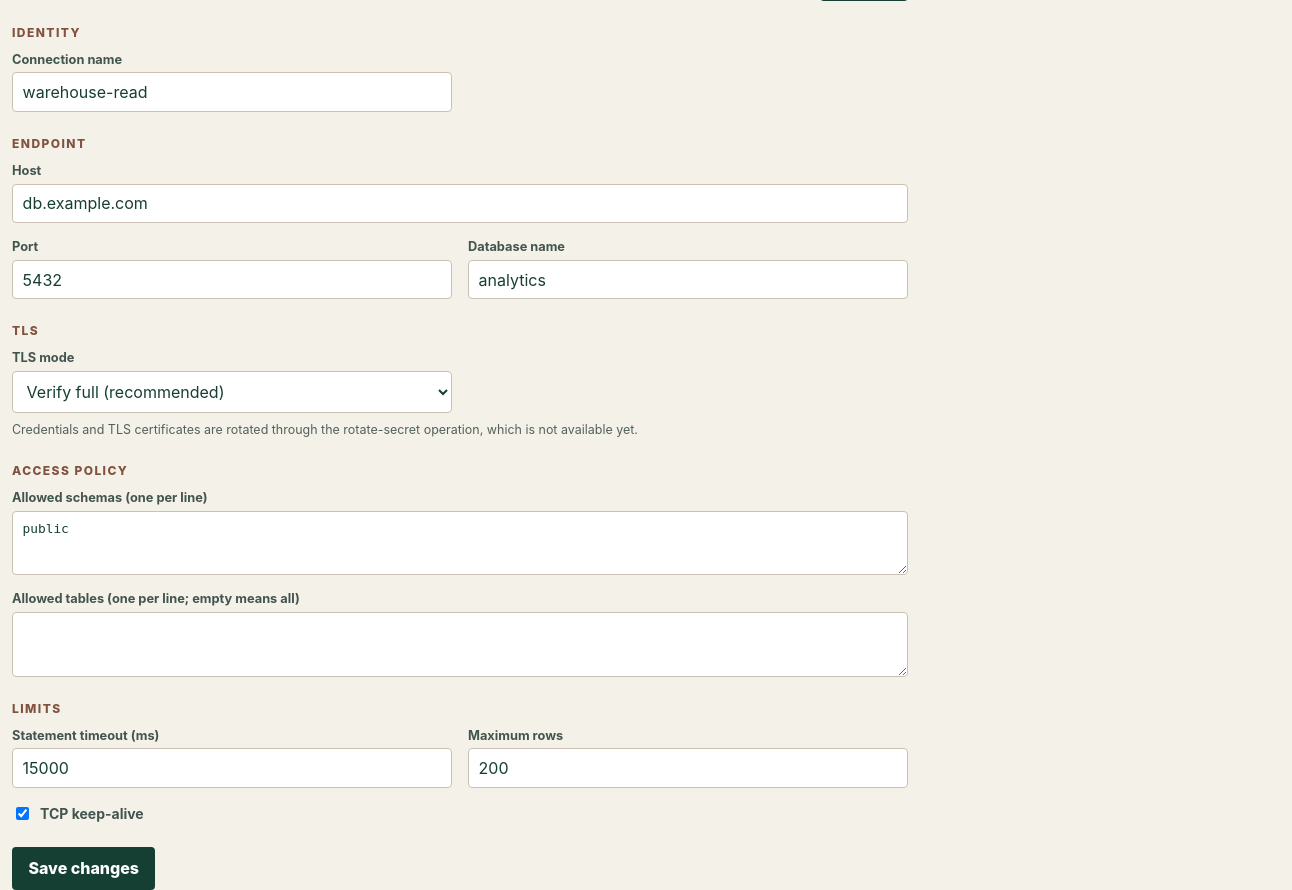
Test: ConnectionUpdateForm › blocks update when no ETag is available
The image size is (1292, 890).
(page scrolled)
Click the button "Save changes".
click(84, 868)  # box [12,847,155,889]
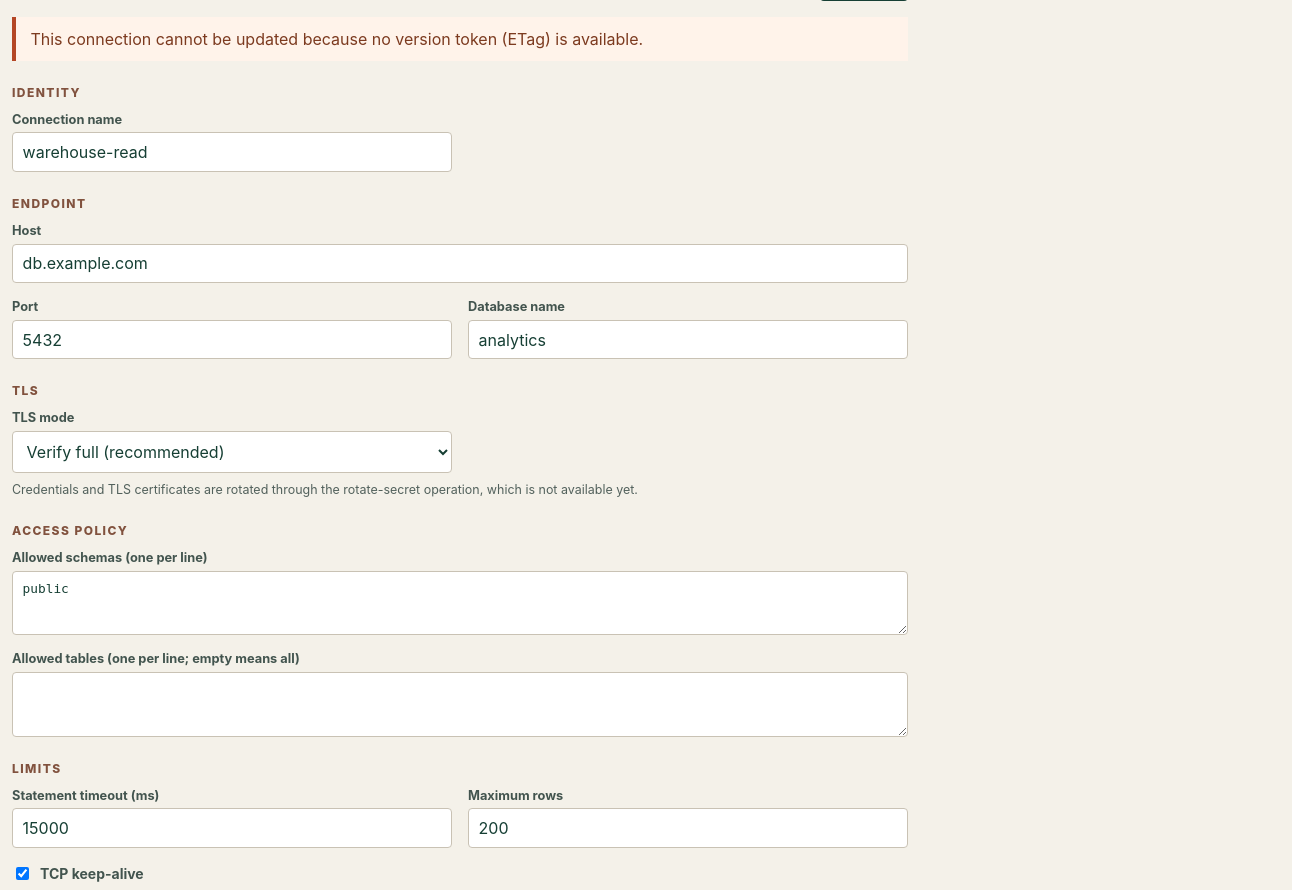
Check: the message shows "no version token (ETag) is available", box [30,29,643,49]
